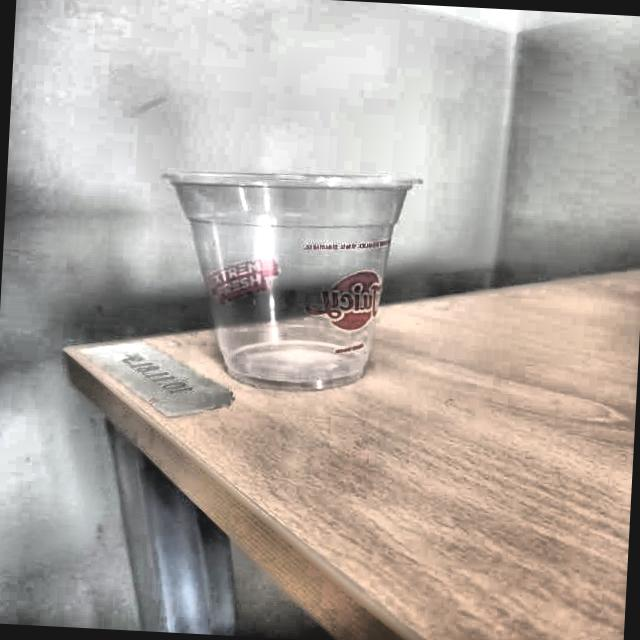plastic cup: (144, 157, 425, 398)
